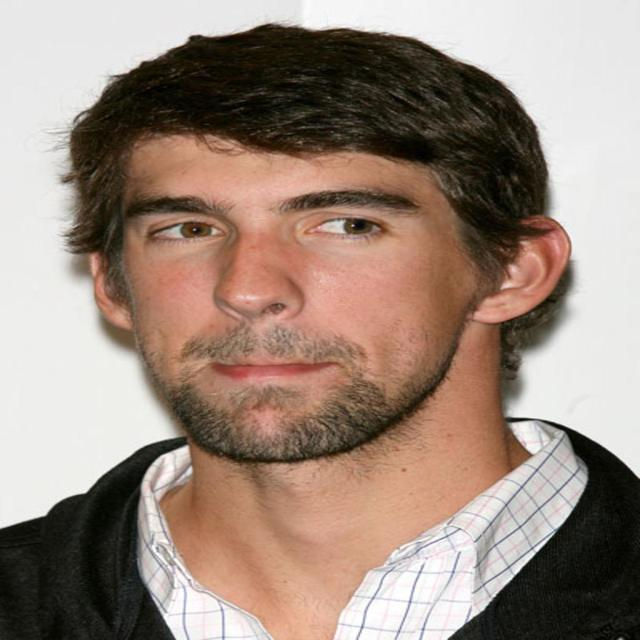Face: (110, 126, 510, 461)
